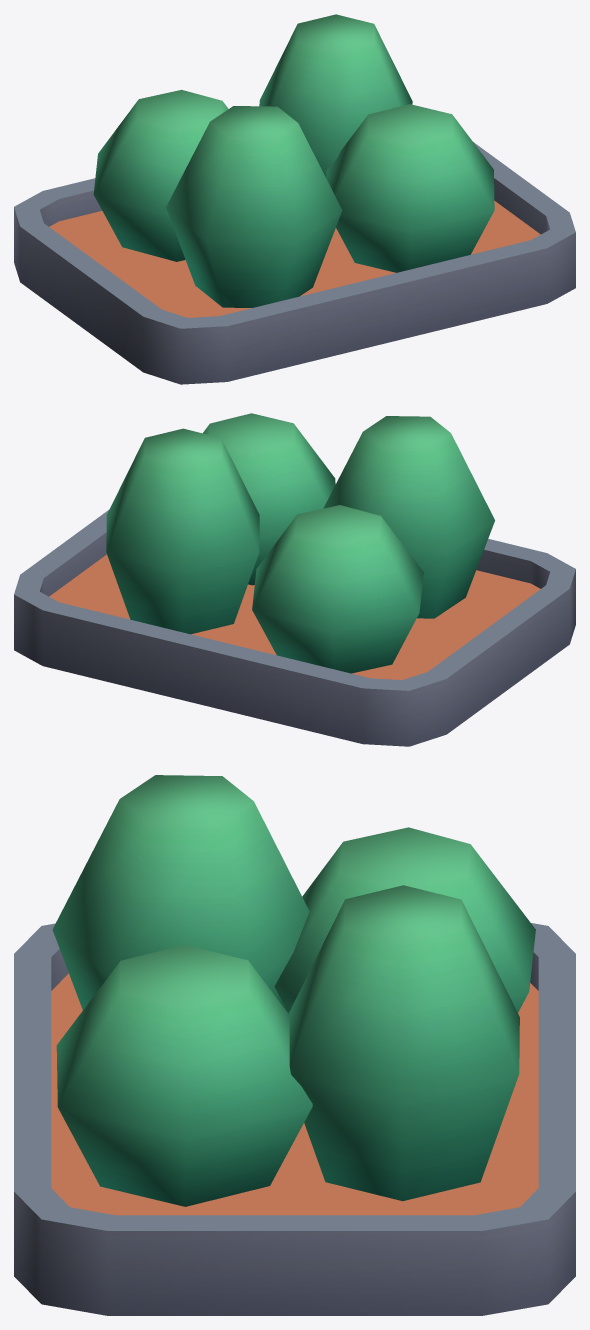
File: k-city-kit-suburban-planter.glb
3 views of the same model, one above another, from view 1: azimuth 30°, elevation 25°; view 2: azimuth 150°, elevation 25°; view 3: azimuth 270°, elevation 25° (orthographic). The views are drawn at different scales.
Parts seen in each view (by area): view 1: planter; view 2: planter; view 3: planter.
Boxes of the visible parts, x1=… form: planter: x1=14, y1=14, x2=575, y2=384; planter: x1=14, y1=413, x2=575, y2=746; planter: x1=14, y1=775, x2=575, y2=1315.
Bounding box in the file's own units: 0.4 × 0.1771 × 0.3.
1 material, 1 textured.
